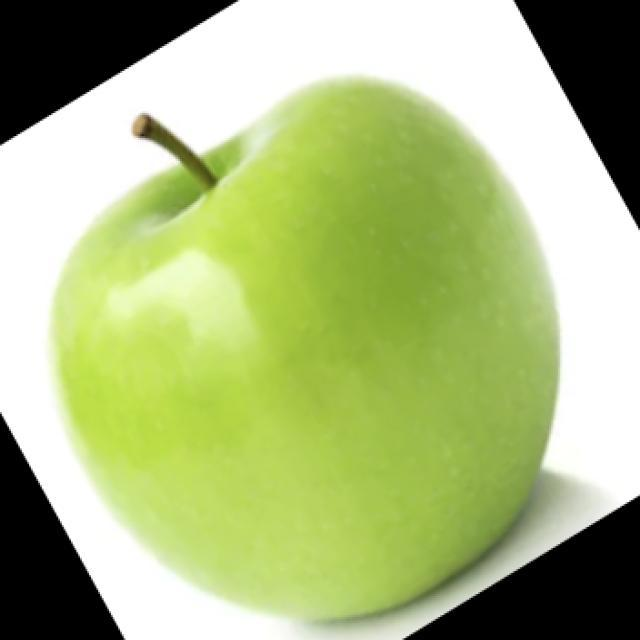Fresh Apple: (72, 75, 545, 620)
